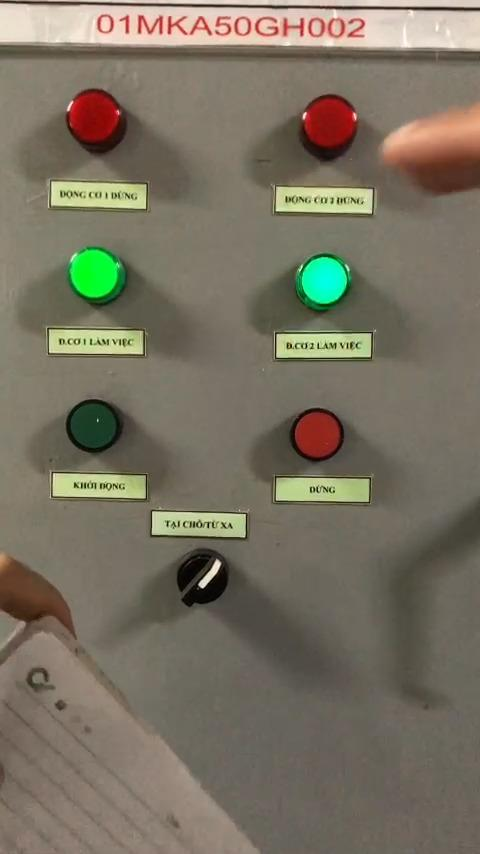led: (64, 86, 128, 148), (294, 96, 360, 154), (288, 404, 344, 468), (65, 246, 124, 305), (63, 395, 124, 452), (295, 255, 353, 308)
twist: (164, 542, 229, 610)
